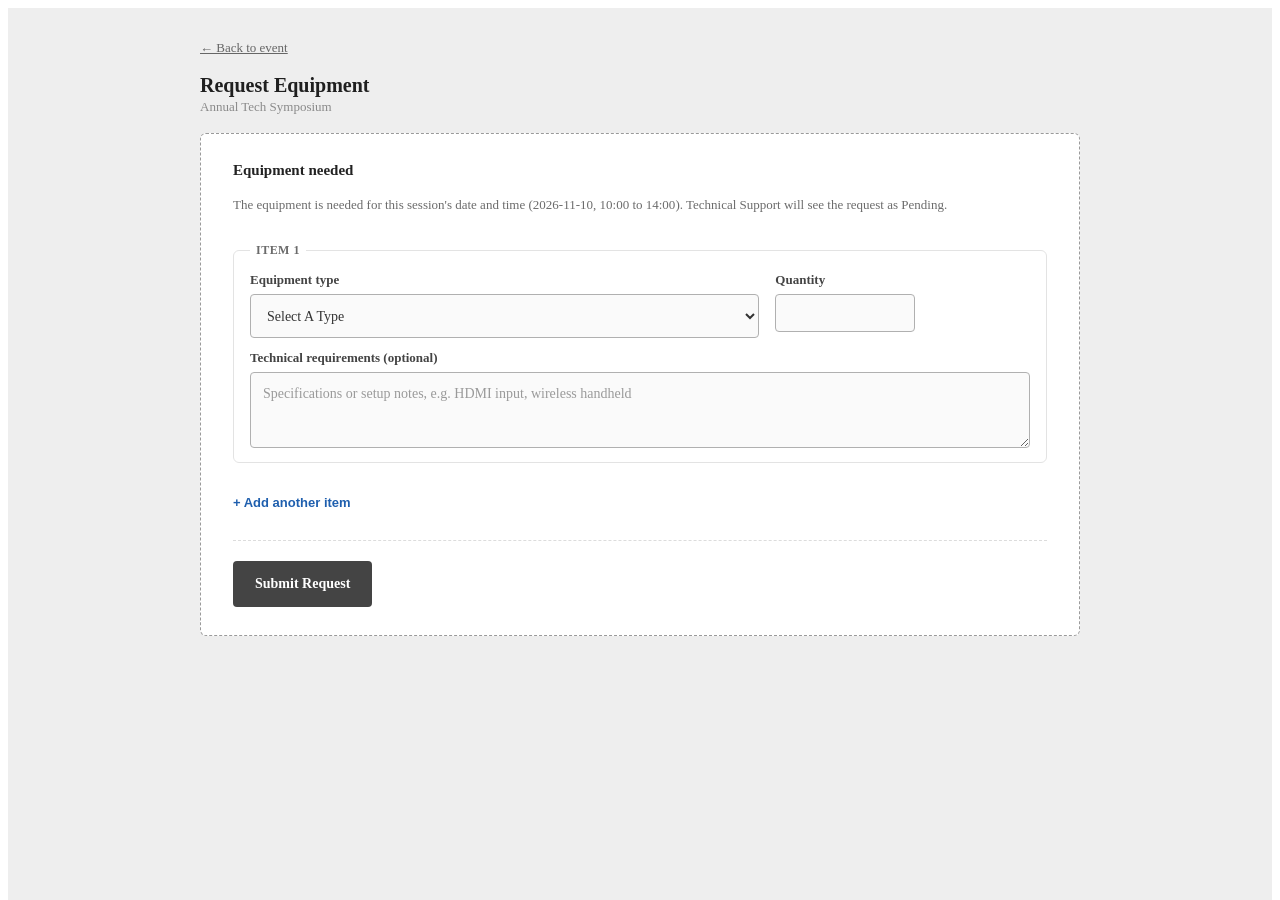
Test: RequestEquipmentView › stays on the page and shows the server error if the submit fails
Select "Projector" in the dropdown labelled "Equipment type". click: (505,316)
box: [250,294,759,338]
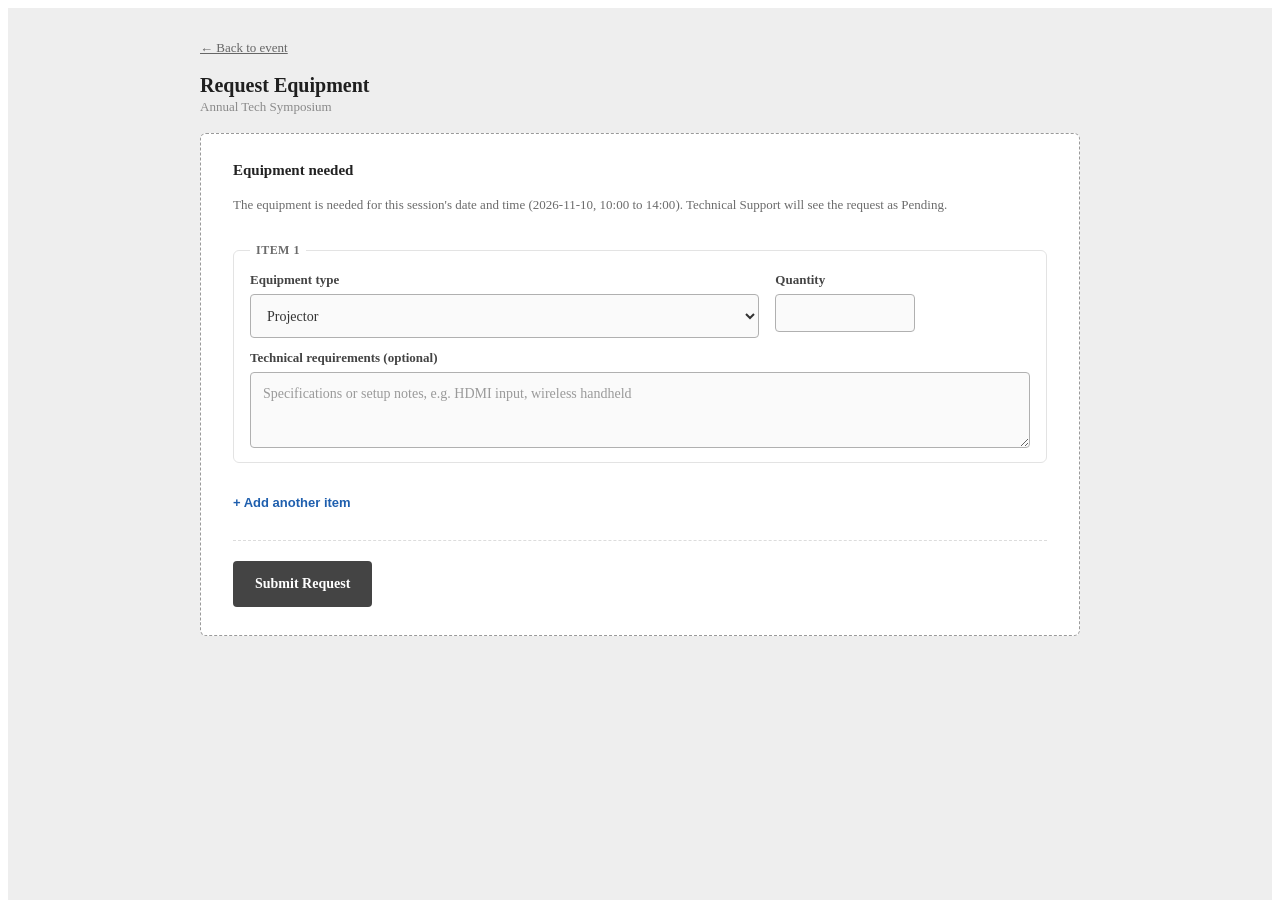
Type "1" into the number field labelled "Quantity". click: (845,313)
box: [775,294,915,332]
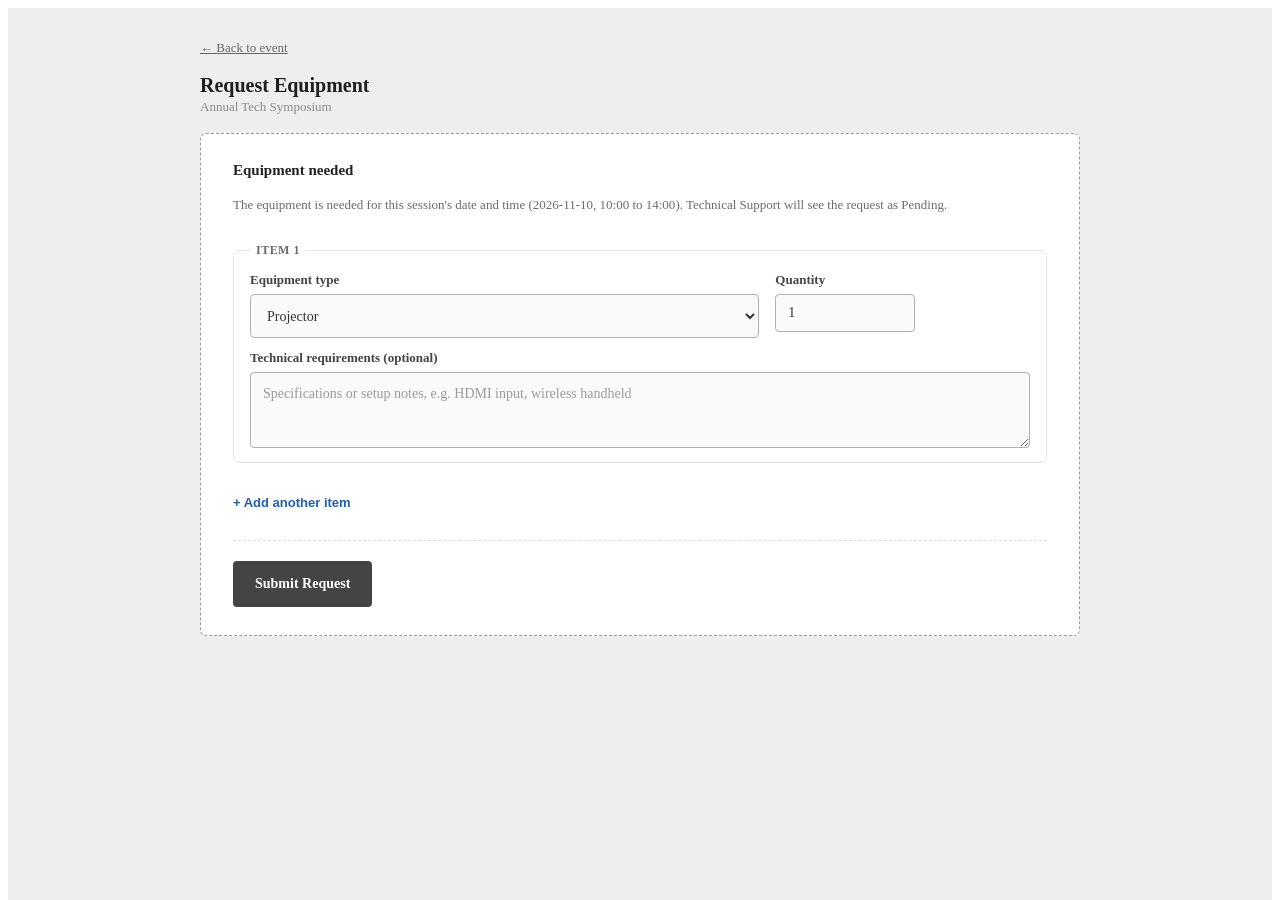
Submit the form, box [200,133,1080,636]
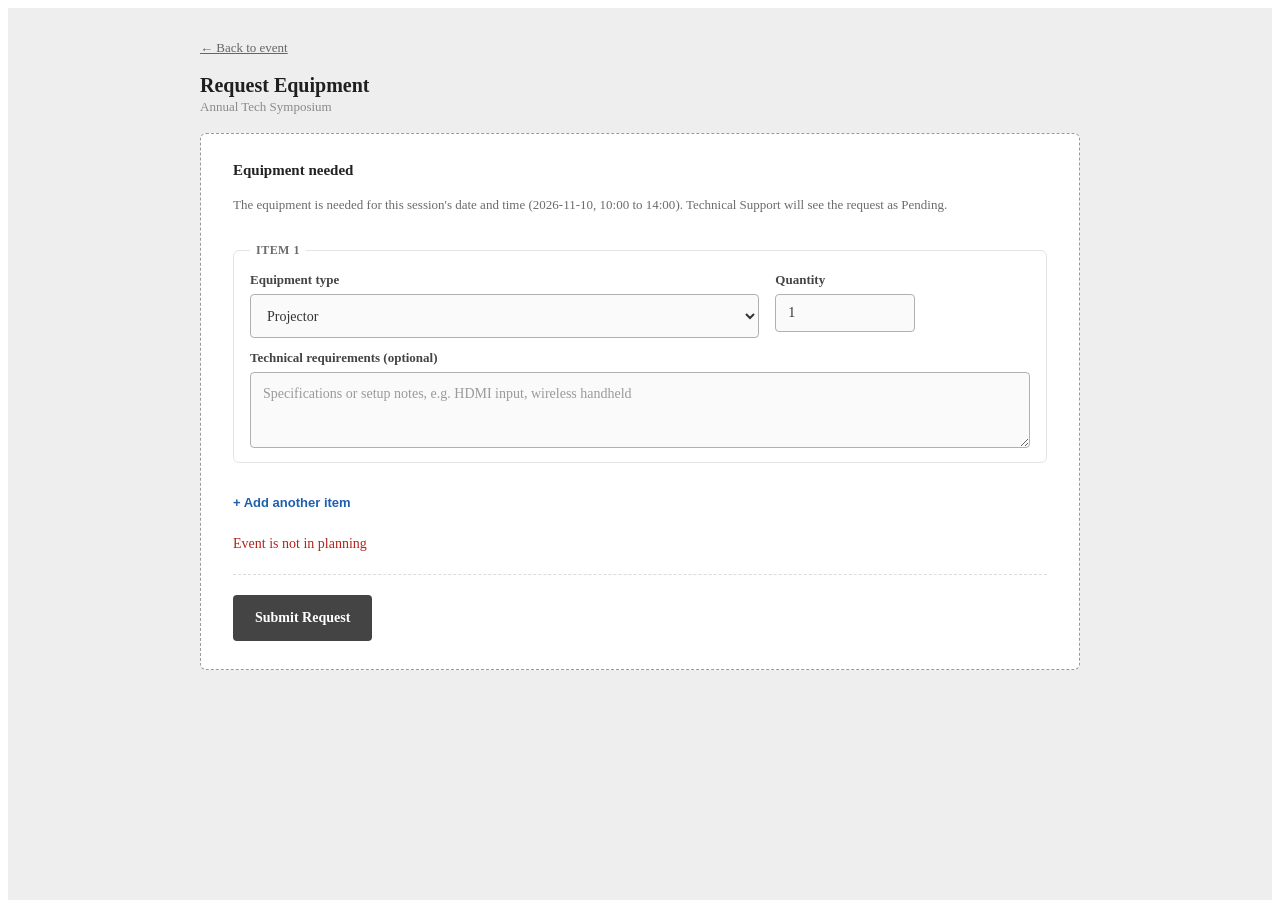
Now the message with class "error" reads "Event is not in planning", box [233,536,367,551]
